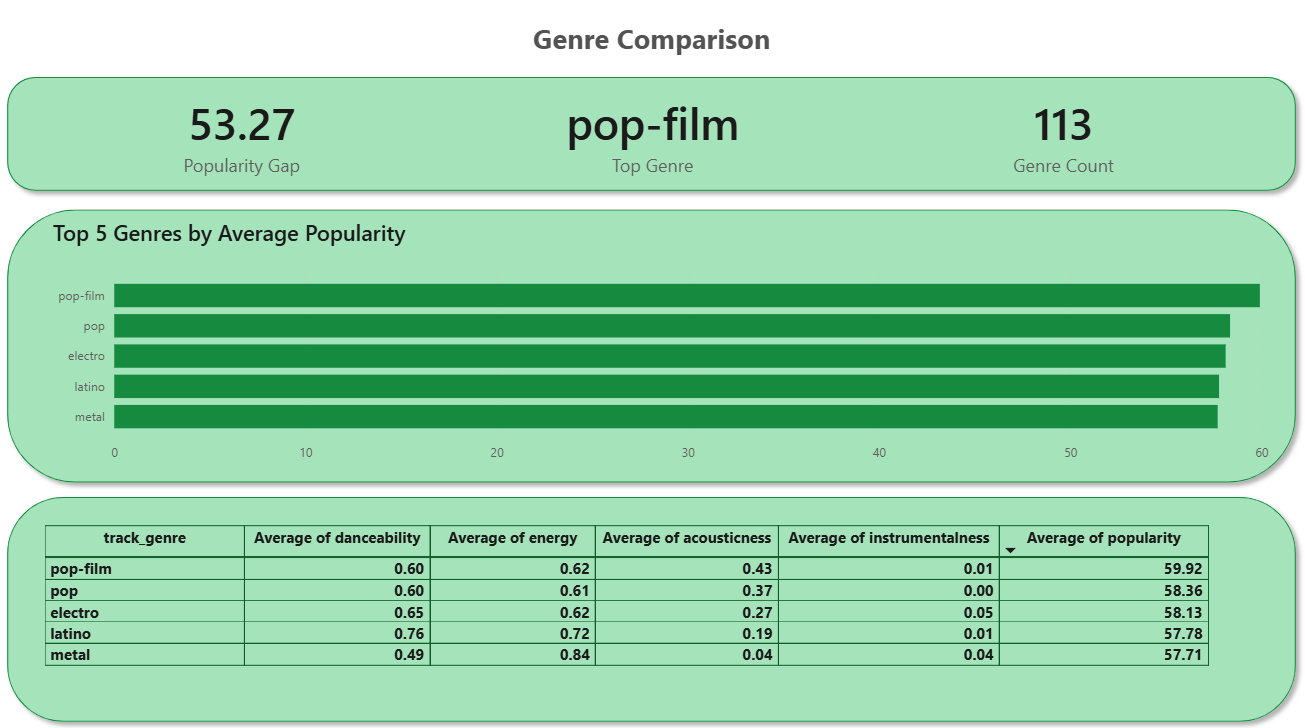

The dashboard page shown, as its layout file describes it:
{"tool":"powerbi","page":{"name":"Genre Comparison","canvas":[1280,720],"ordinal":2},"visuals":[{"type":"group","id":"g1","title":"Background","box":[0,69.6,1278.6,651.1],"z":500},{"type":"textbox","box":[377.9,0,523.4,75.8],"z":1000},{"type":"cardVisual","fields":{"Data":["Spotify.Popularity Gap","Spotify.Top Genre","Spotify.Genre Count"]},"box":[25,75.1,1232.7,126.6],"z":2000},{"type":"tableEx","title":"Audio profile table","fields":{"Values":["Spotify.track_genre","Avg(Spotify.danceability)","Avg(Spotify.energy)","Avg(Spotify.acousticness)","Avg(Spotify.instrumentalness)","Avg(Spotify.popularity)"]},"box":[39.1,514.8,1209.4,193.2],"z":4000},{"type":"clusteredBarChart","title":"Top 5 Genres by Average Popularity","fields":{"Category":["Spotify.track_genre"],"Y":["Avg(Spotify.popularity)"]},"box":[48.7,218.4,1199.3,247.7],"z":5000},{"type":"shape","box":[0,71.6,1278.6,129.4],"z":5250,"group":"g1"},{"type":"shape","box":[0,201.8,1278.6,285.2],"z":5500,"group":"g1"},{"type":"shape","box":[0,482.8,1278.6,237.9],"z":7000,"group":"g1"}]}

Visuals, with their boxes in screenshot pixels (x1, y1, x2, y2), scaled from the page's 1280x720 canvas onto the 1305x728 screenshot:
"Background" group: bbox=(0, 70, 1304, 727)
textbox: bbox=(385, 0, 919, 77)
cardVisual - Spotify.Popularity Gap x Spotify.Top Genre: bbox=(25, 76, 1282, 204)
"Audio profile table" tableEx: bbox=(40, 521, 1273, 716)
"Top 5 Genres by Average Popularity" clusteredBarChart: bbox=(50, 221, 1272, 471)
shape: bbox=(0, 72, 1304, 203)
shape: bbox=(0, 204, 1304, 492)
shape: bbox=(0, 488, 1304, 727)
